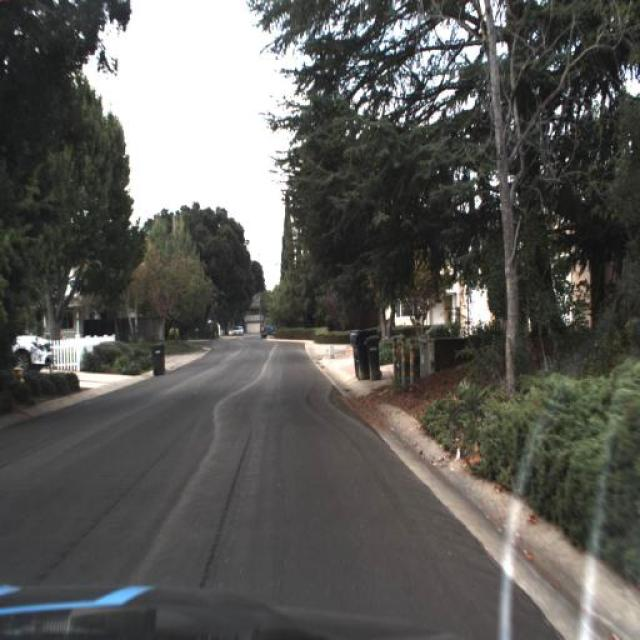car: (0, 323, 54, 377), (262, 316, 280, 338), (232, 326, 240, 336)
